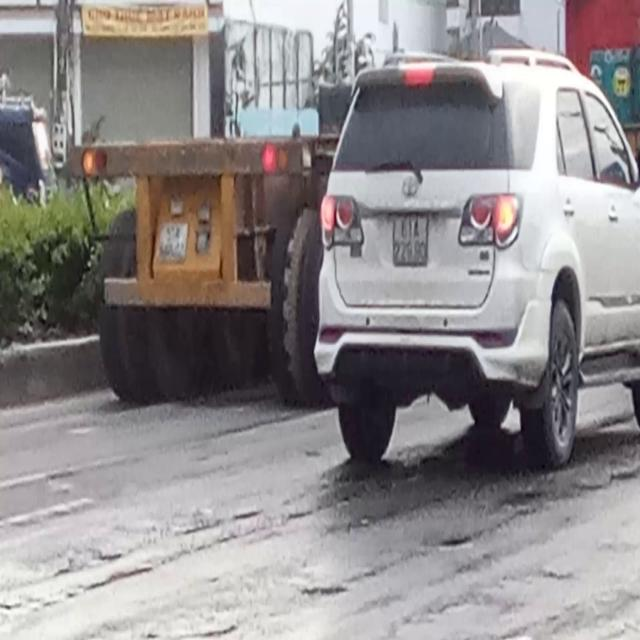bien_trang: (391, 212, 430, 266)
